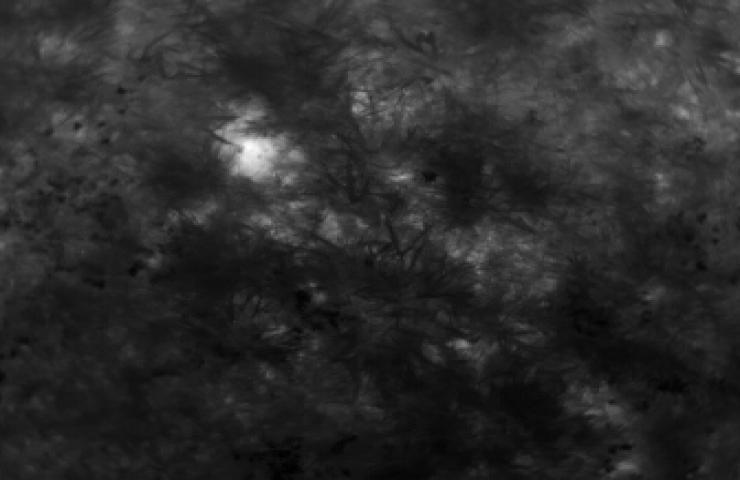landmines: (206, 101, 305, 189)
